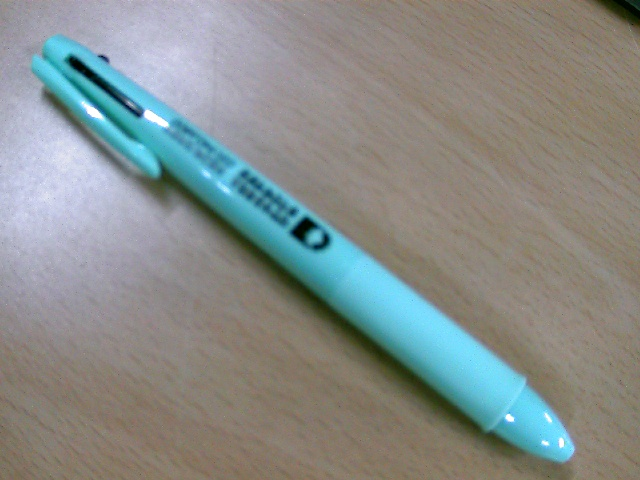pen: (29, 36, 577, 464)
